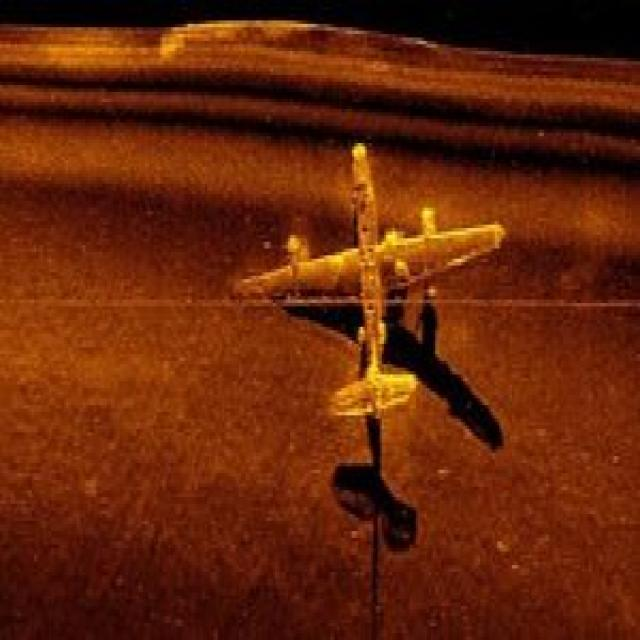plane: (222, 112, 516, 446)
